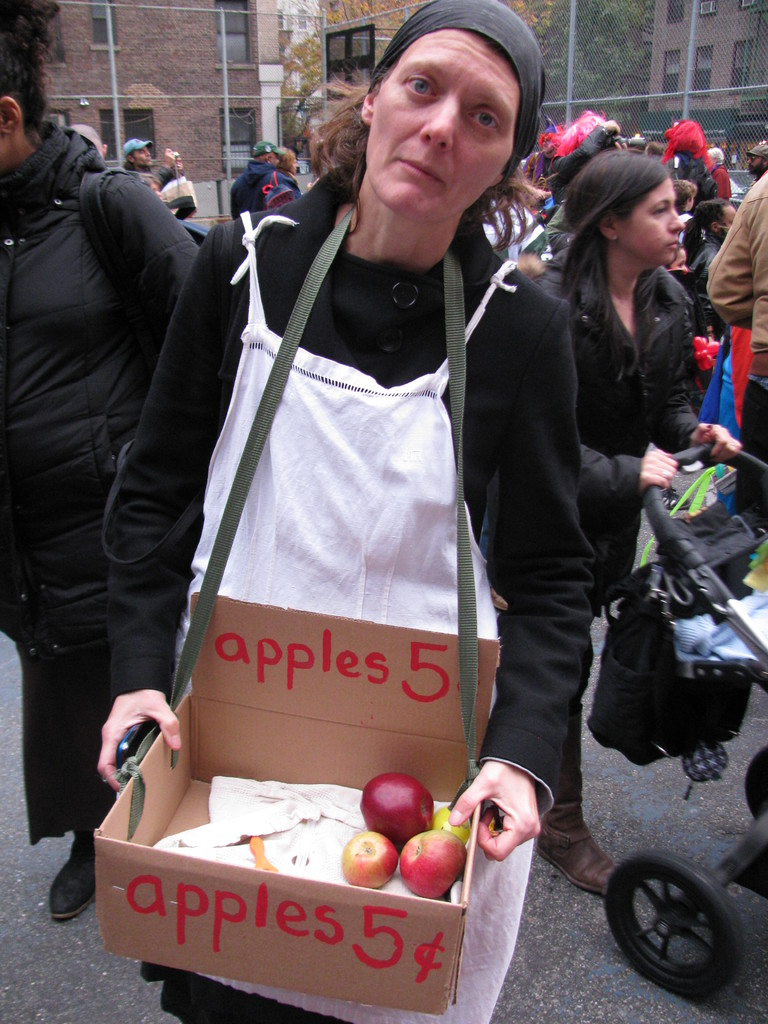Apple: (357, 774, 433, 846), (397, 826, 467, 898), (337, 828, 397, 888)
